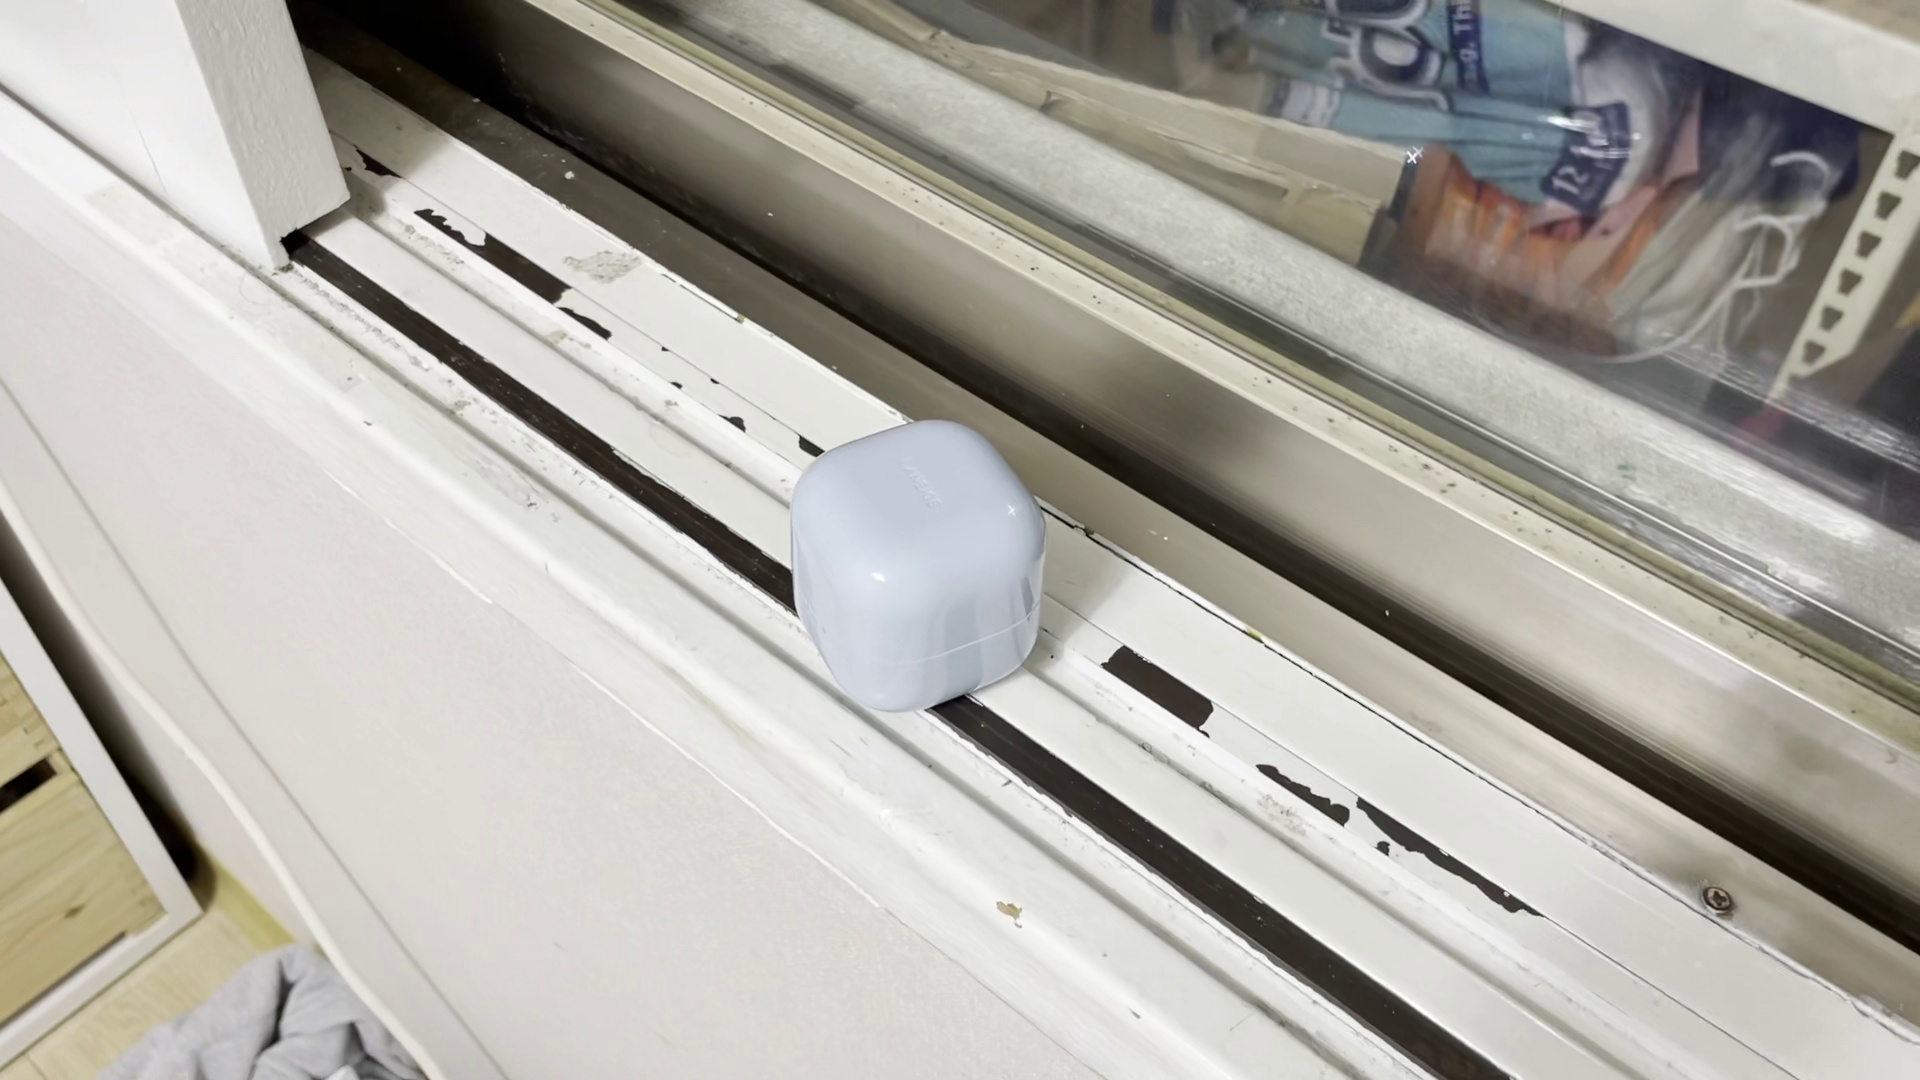cream: (787, 423, 1044, 713)
